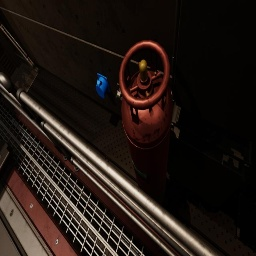NitrogenTank ,: (119, 40, 173, 205)
